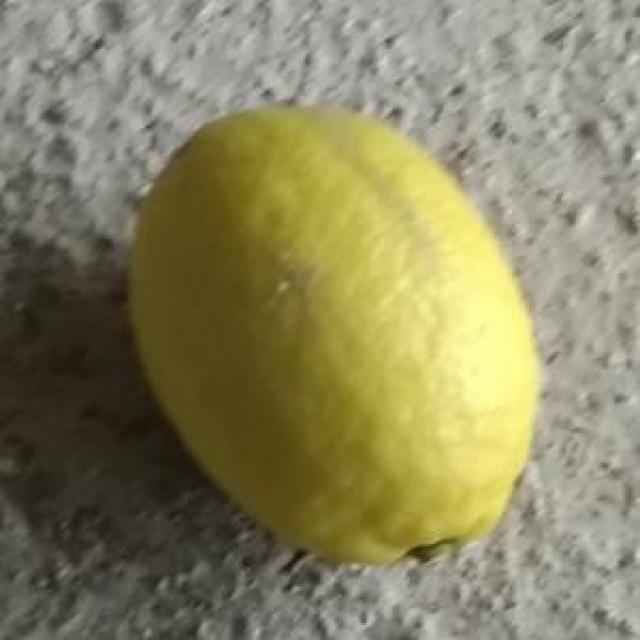lemon: (125, 102, 538, 564)
